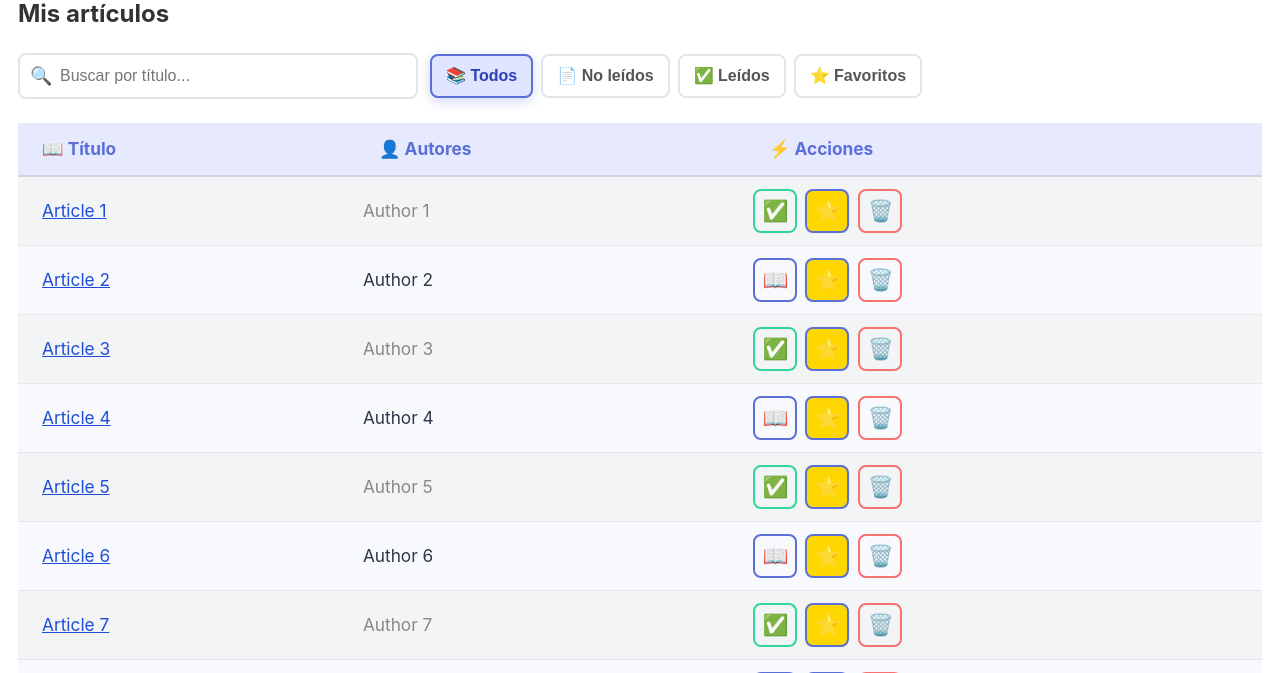
Test: ArticleTable - Paginación › aplica paginación correctamente cuando hay filtros activos
This screenshot has width=1280, height=673.
Expected: the link titled "Article 1" is shown, [42,200,106,221]
Note: Activar filtro de favoritos
Click the button "⭐ Favoritos": (858, 76) [794,54,922,98]
(page scrolled)
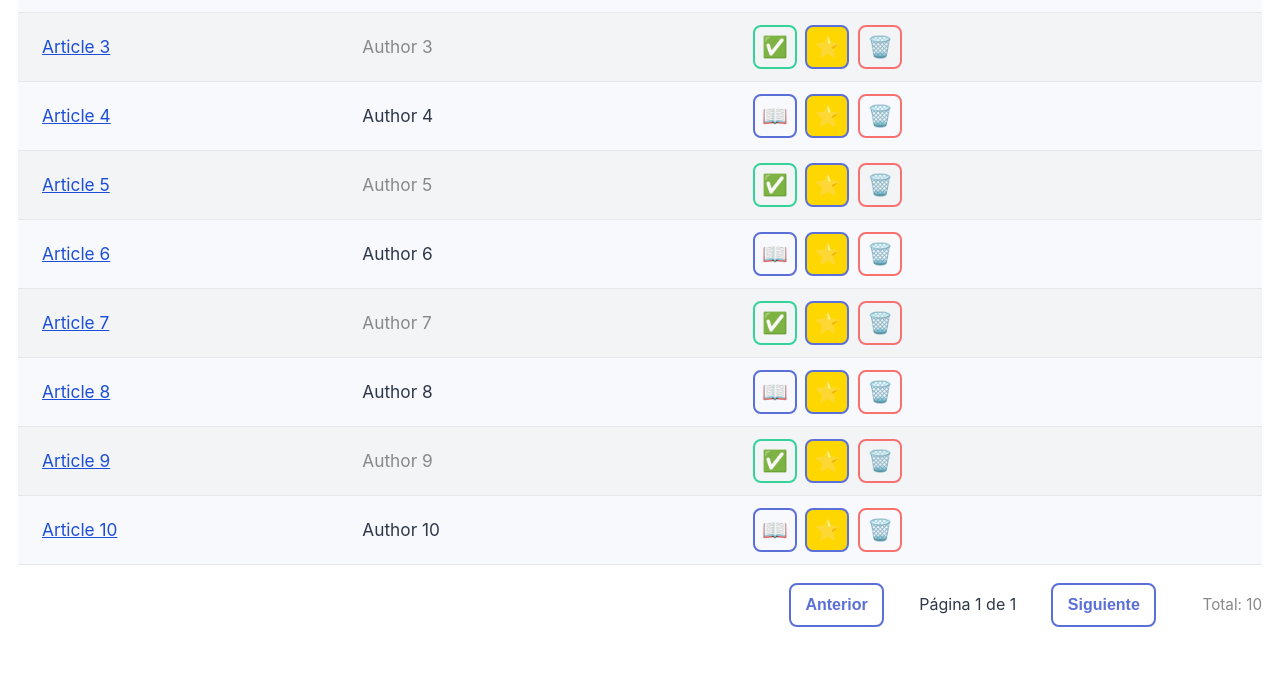
Expected: the link titled "Article 9" is shown, [42,450,110,471]
Expected: the text "Total: 10" is shown, [1203,593,1262,617]
